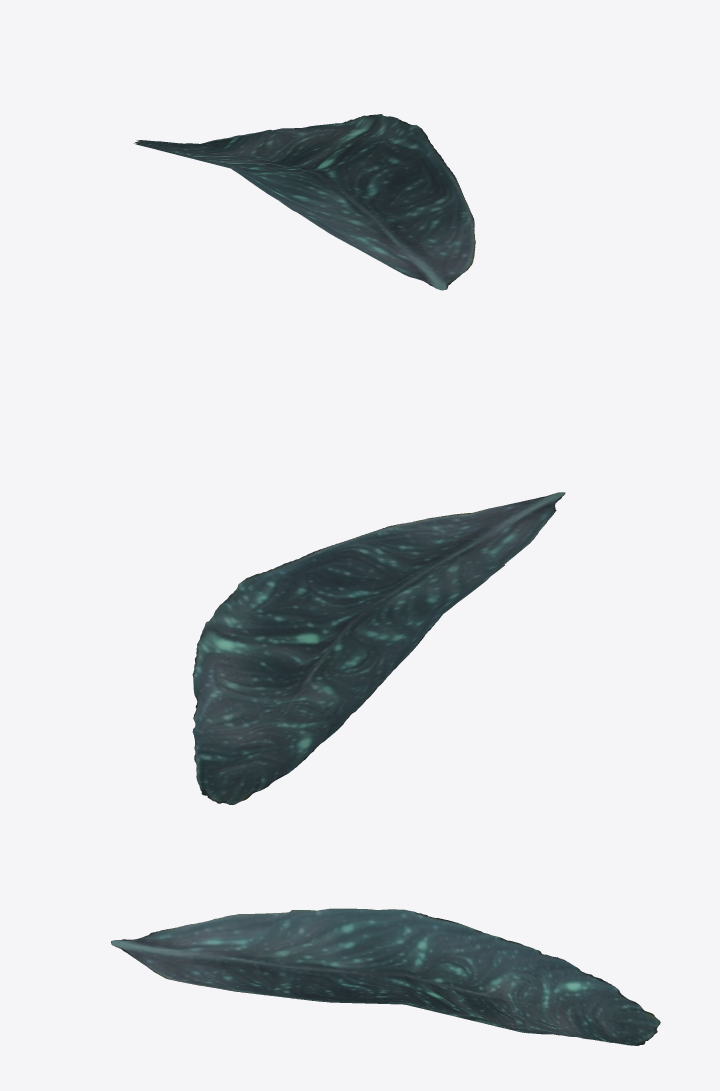
Rendered from leaf10.FBX.
3 renders of one model, top to bottom at view 1: azimuth 30°, elevation 25°; view 2: azimuth 150°, elevation 25°; view 3: azimuth 270°, elevation 25°, orthographic. The views are drawn at different scales.
Visible parts, largest first — view 1: Plane006; view 2: Plane006; view 3: Plane006.
Part boxes in pixels (x1=…): Plane006: x1=133, y1=114, x2=475, y2=290; Plane006: x1=192, y1=492, x2=565, y2=804; Plane006: x1=111, y1=908, x2=660, y2=1045.
Size of the model in its own units: 0.1016 by 0.051 by 0.2385.
